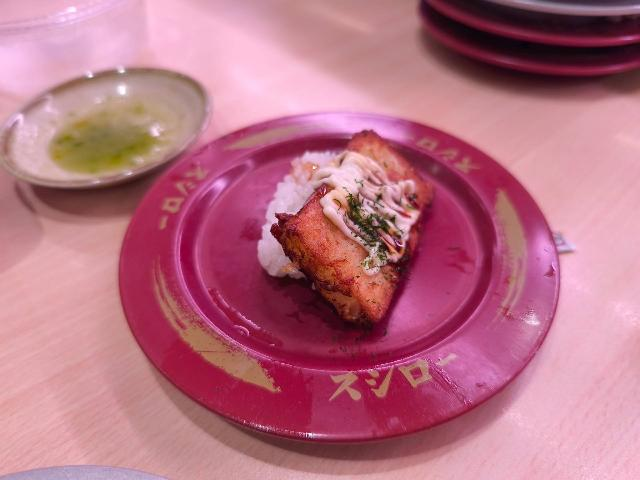janred: (135, 123, 570, 422), (419, 31, 633, 107), (443, 3, 638, 58)
janwhite: (497, 0, 640, 22)
